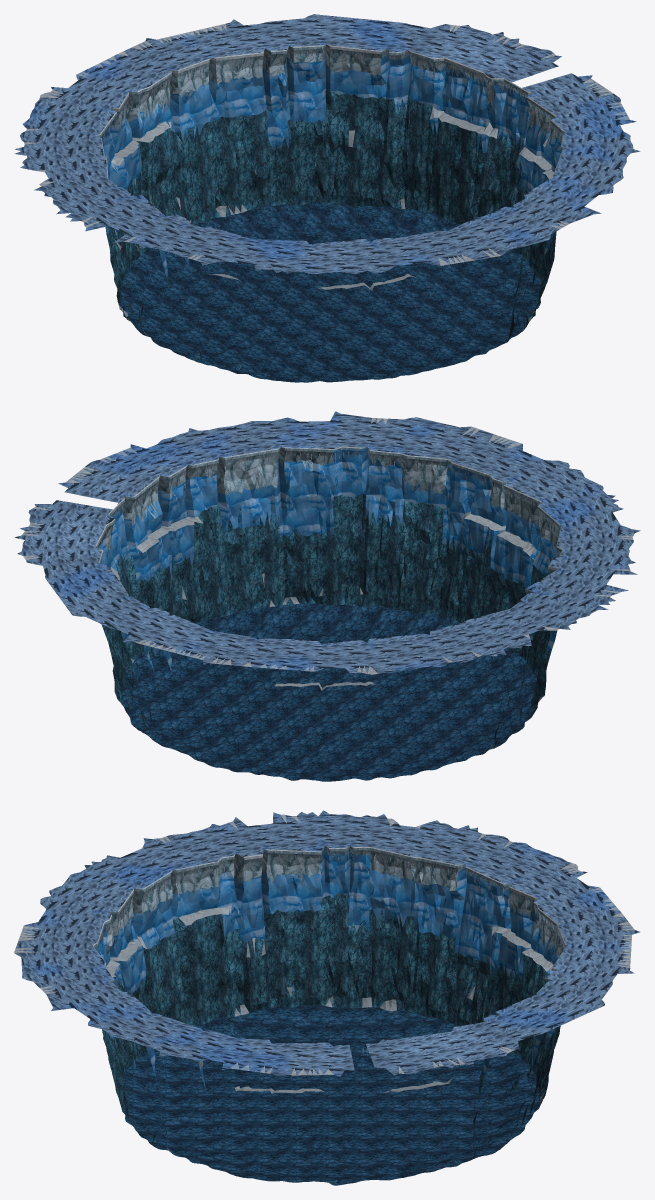
Rendered from ice_ground.glb.
The picture shows the model from 3 angles, top to bottom: view 1: azimuth 30°, elevation 25°; view 2: azimuth 150°, elevation 25°; view 3: azimuth 270°, elevation 25°; orthographic projection.
Visible parts, largest first — view 1: IceGround; view 2: IceGround; view 3: IceGround.
Part boxes in pixels (box(x1,y1,x2,y2)): IceGround: box(14, 14, 640, 382); IceGround: box(14, 411, 640, 781); IceGround: box(14, 810, 640, 1185).
Size of what is drawn, in the model's own units: 124 by 34.31 by 123.
7 materials, 7 textured.
